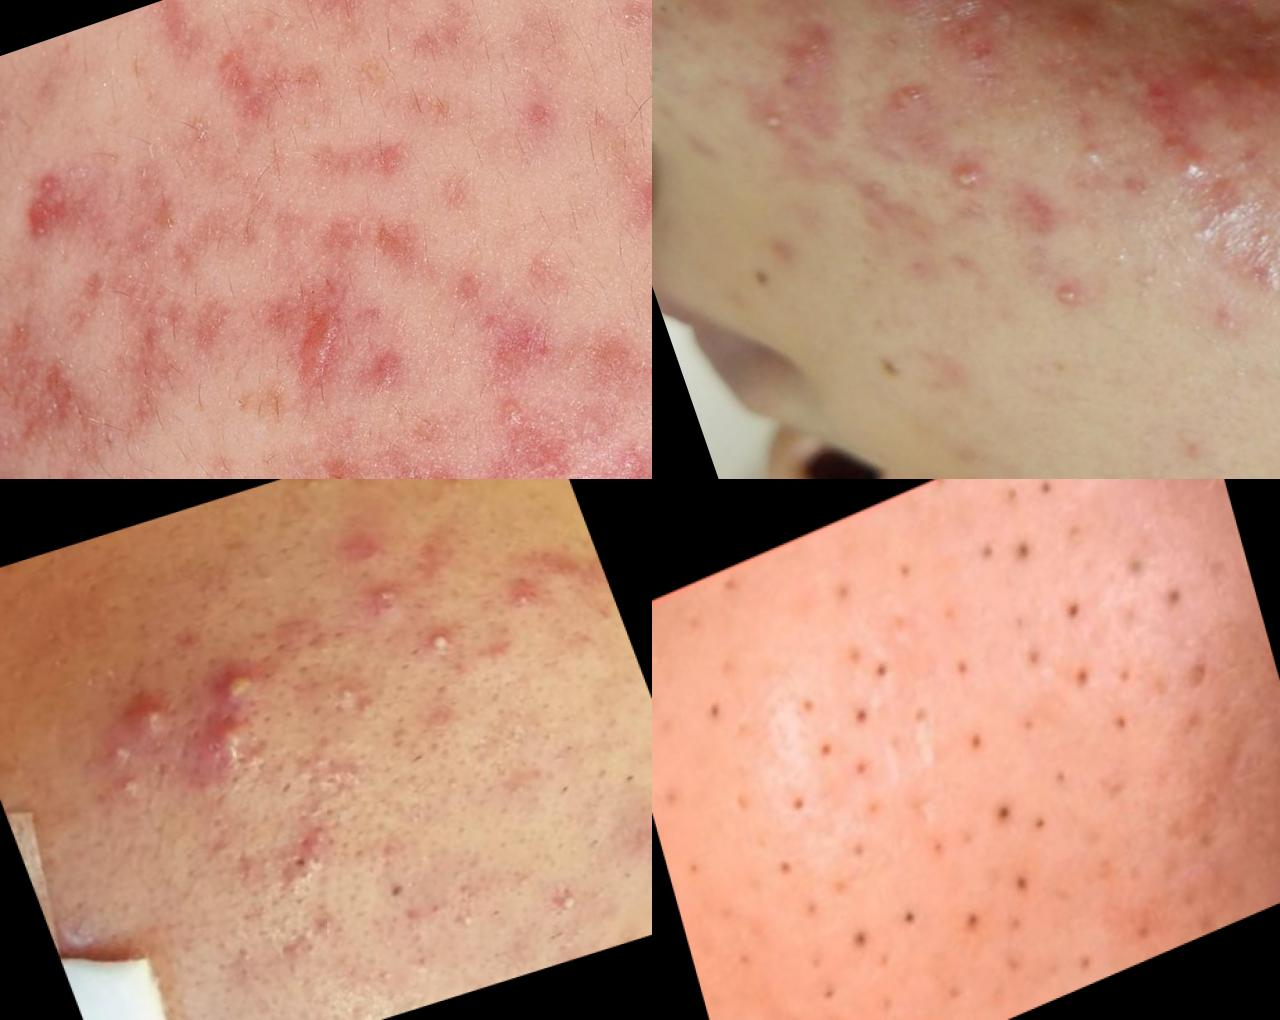acne_scars: (1, 294, 124, 474), (103, 300, 217, 432), (7, 147, 105, 264), (205, 28, 283, 112)
blackhead: (745, 892, 913, 1020), (783, 616, 935, 741), (793, 675, 907, 815), (1057, 633, 1158, 754), (756, 834, 843, 944), (959, 508, 1052, 600), (268, 807, 361, 890), (877, 877, 945, 965), (1038, 570, 1109, 651), (876, 533, 945, 615), (291, 736, 380, 794), (992, 843, 1055, 923), (941, 887, 1004, 957), (973, 779, 1031, 845), (951, 713, 1004, 775), (936, 636, 987, 696), (229, 547, 288, 598), (687, 684, 736, 743), (1008, 631, 1052, 689)
cystic: (189, 704, 276, 777)
keloid: (248, 267, 379, 420)
papular: (1172, 48, 1241, 120), (1237, 50, 1280, 129)
purulent: (209, 631, 284, 709), (1036, 250, 1106, 332), (935, 141, 1008, 218), (1154, 122, 1231, 195), (748, 87, 809, 174), (1061, 118, 1131, 184), (536, 869, 611, 930), (413, 611, 471, 666), (328, 662, 380, 712), (124, 685, 171, 740), (97, 729, 147, 777), (105, 763, 154, 808), (876, 1, 951, 26)
whitehead: (360, 938, 453, 1005), (354, 569, 418, 627), (503, 573, 553, 614), (444, 900, 491, 942), (508, 863, 554, 904), (624, 815, 652, 867)
